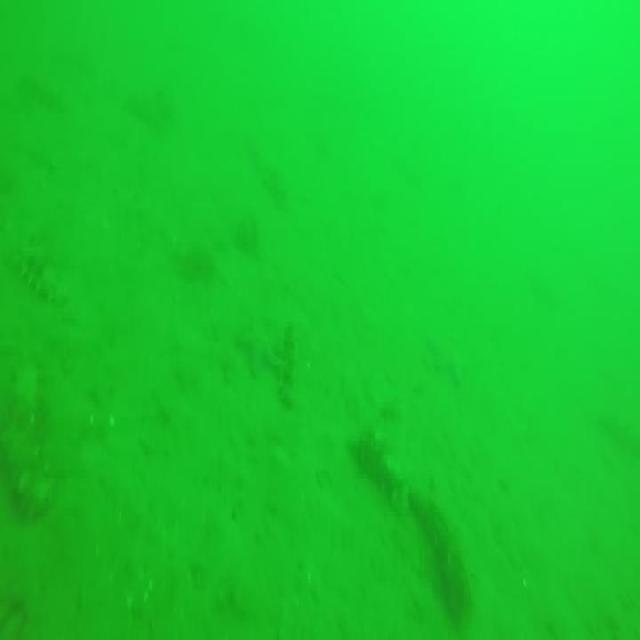holothurian: (406, 474, 476, 640), (349, 432, 406, 511), (14, 240, 65, 302), (278, 318, 305, 412)
starfish: (237, 313, 283, 379)
